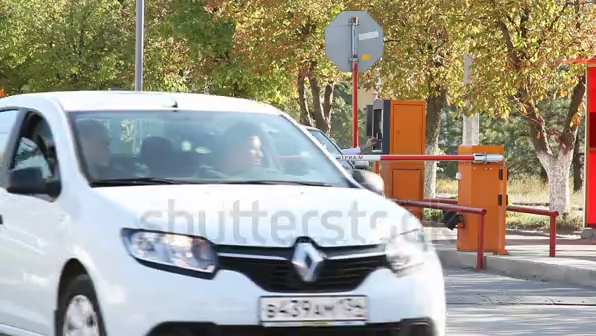licenseplate: (256, 295, 374, 329)
